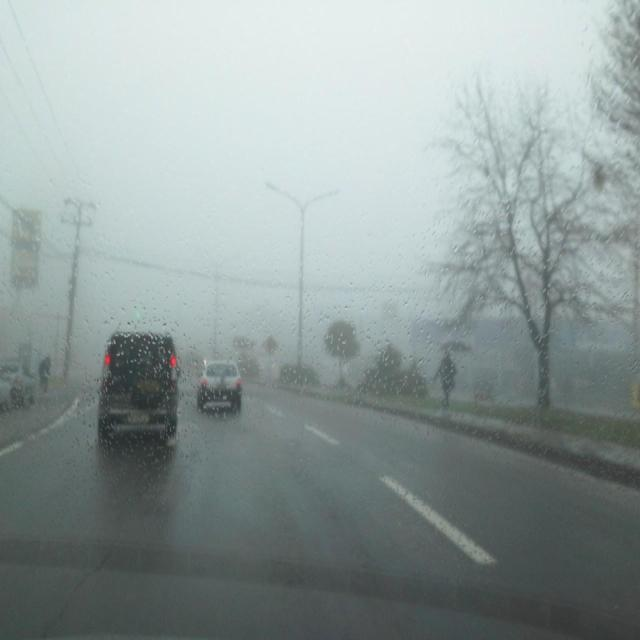Car: (197, 358, 244, 416), (1, 363, 38, 404)
Van: (99, 333, 183, 448)
